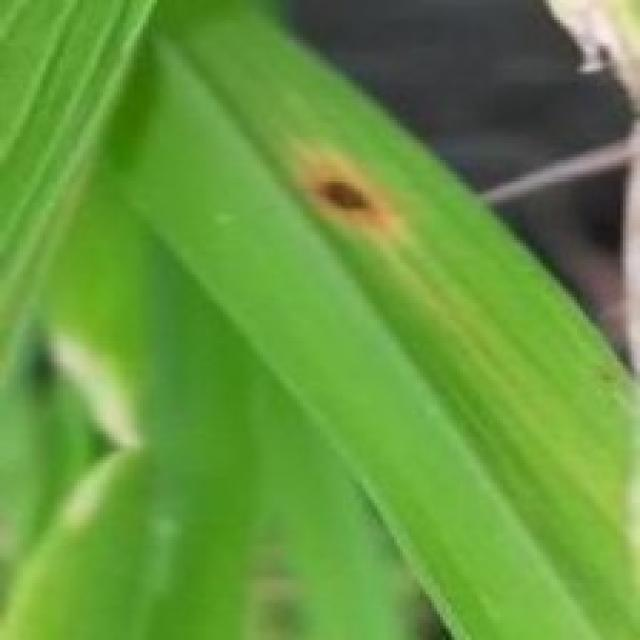Rice___Brown_Spot: (104, 0, 637, 637)
